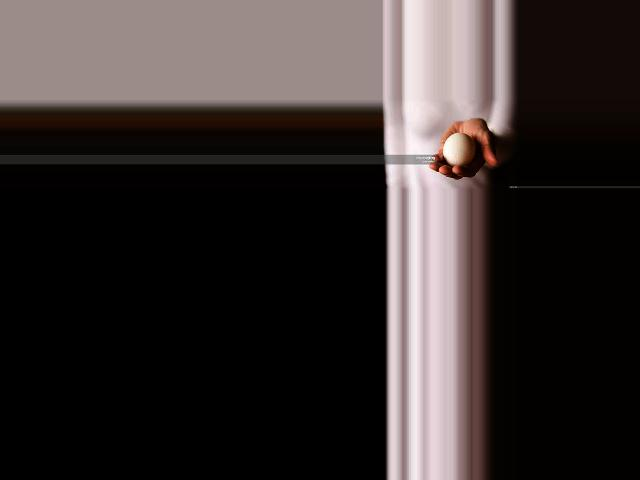egg: (442, 133, 475, 167)
